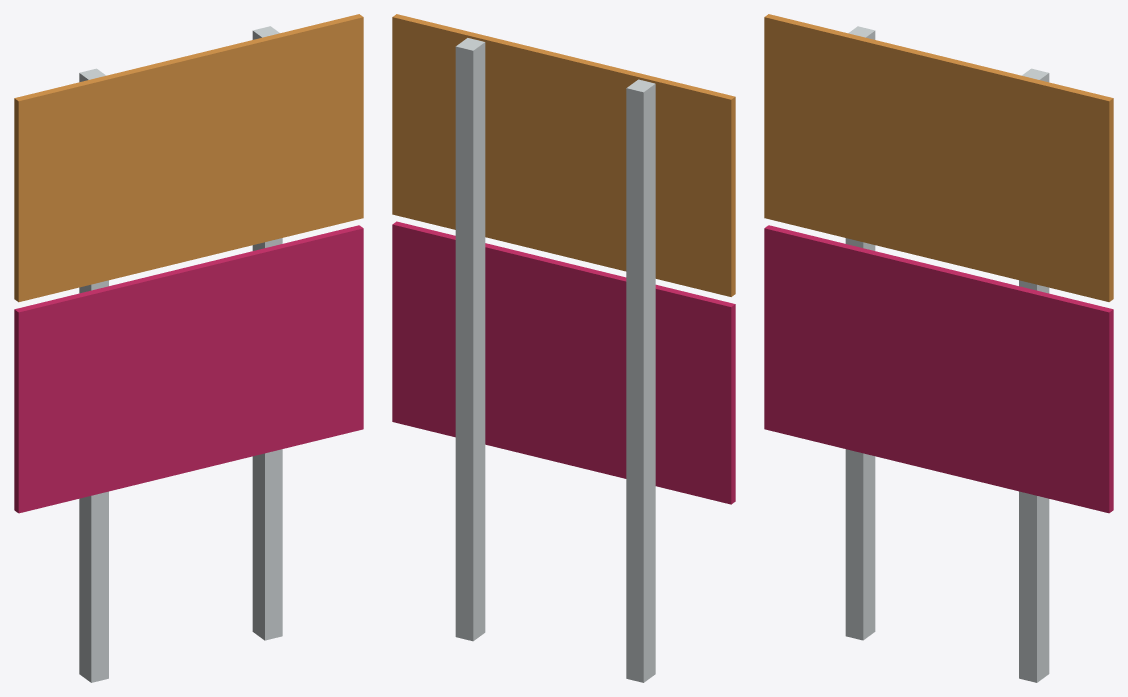
File: FinalSign.fbx
3 views of the same model, side by side, from view 1: azimuth 30°, elevation 25°; view 2: azimuth 150°, elevation 25°; view 3: azimuth 330°, elevation 25° (orthographic).
Visible parts, largest first — view 1: Signs_1_sq; view 2: Signs_1_sq; view 3: Signs_1_sq.
Boxes of the visible parts, bbox=[...] form: Signs_1_sq: bbox=[14, 14, 363, 682]; Signs_1_sq: bbox=[392, 14, 735, 682]; Signs_1_sq: bbox=[764, 14, 1113, 682].
Bounding box in the file's own units: 0.9 × 1.5 × 0.0745.
